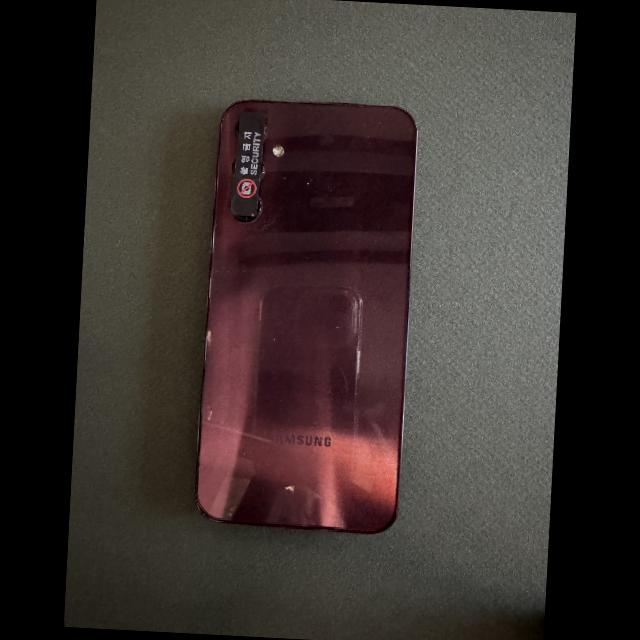lens: (233, 199, 261, 222), (235, 122, 238, 137), (260, 161, 263, 176)
phone: (195, 101, 417, 533)
sticker: (230, 111, 266, 216)
